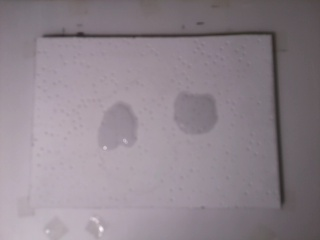Water_detected: (181, 88, 227, 141), (99, 109, 139, 144)
